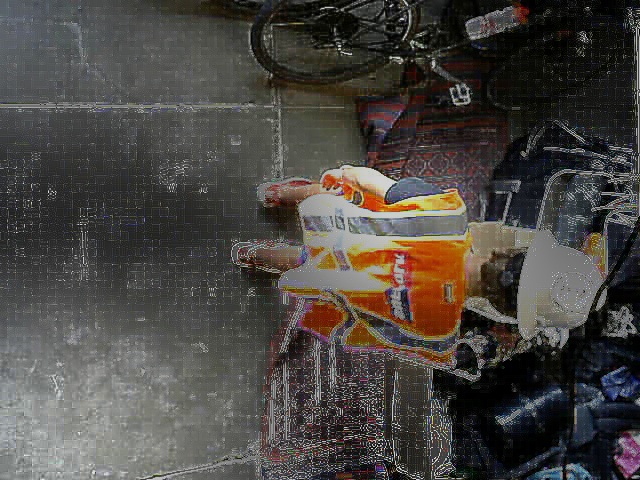one: (553, 271, 593, 312)
